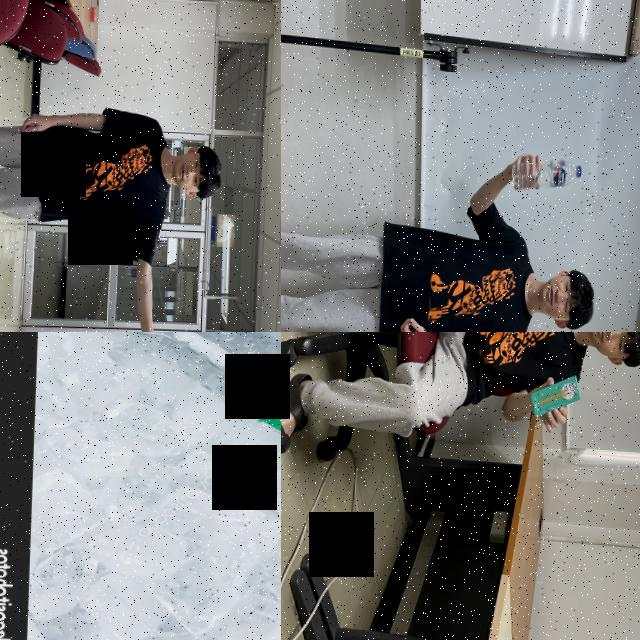bottle: (62, 332, 281, 540), (508, 156, 580, 193)
